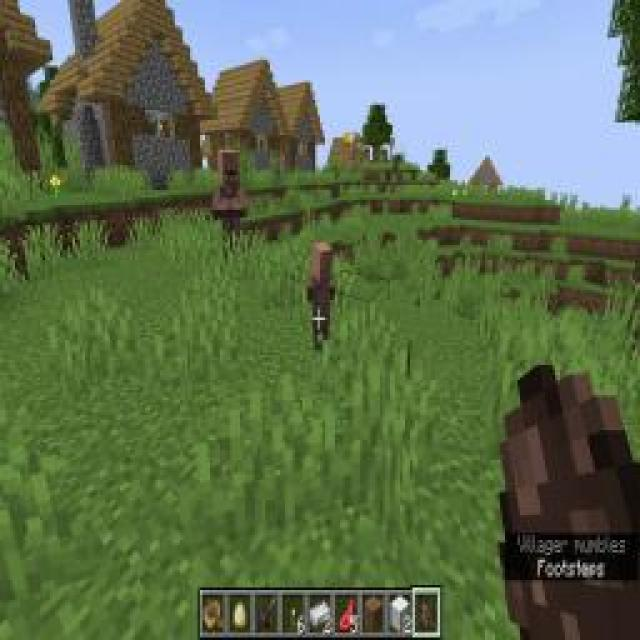Villager House: (210, 144, 248, 261), (304, 235, 336, 335)
